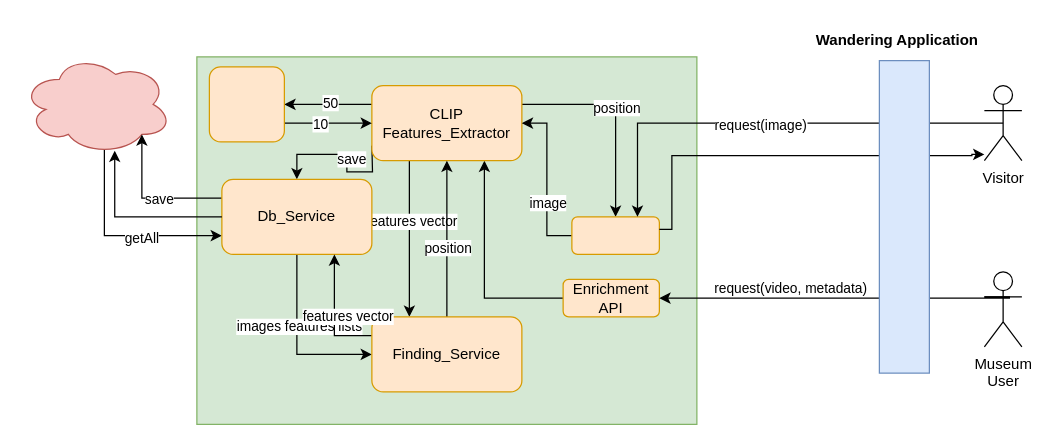
The diagram is 1054 pixels wide and 446 high, and some of its shapes have lost their labels. The shapes that lost their labels are listed below. From the top down, each one's box as (x1, y1, x2, y2) in pixels, then its label:
(21, 53, 172, 154): MongoDb
(208, 66, 284, 142): ARIDF
(571, 216, 659, 254): Find API
